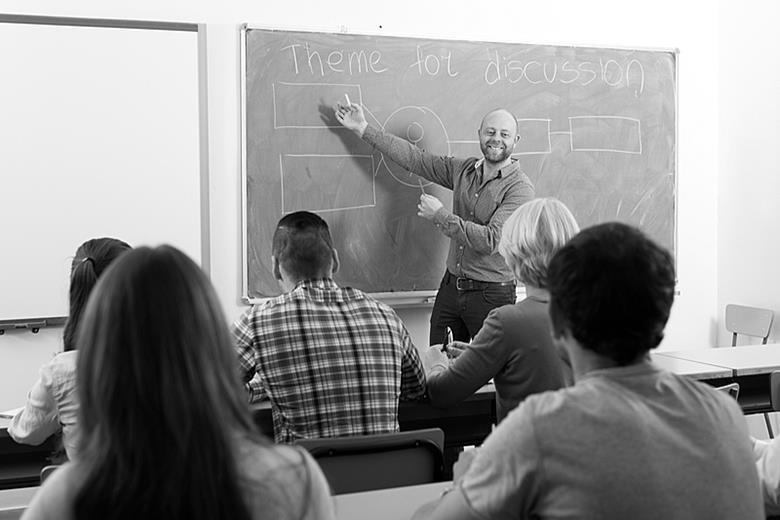pointing_gesture: (331, 100, 368, 132)
